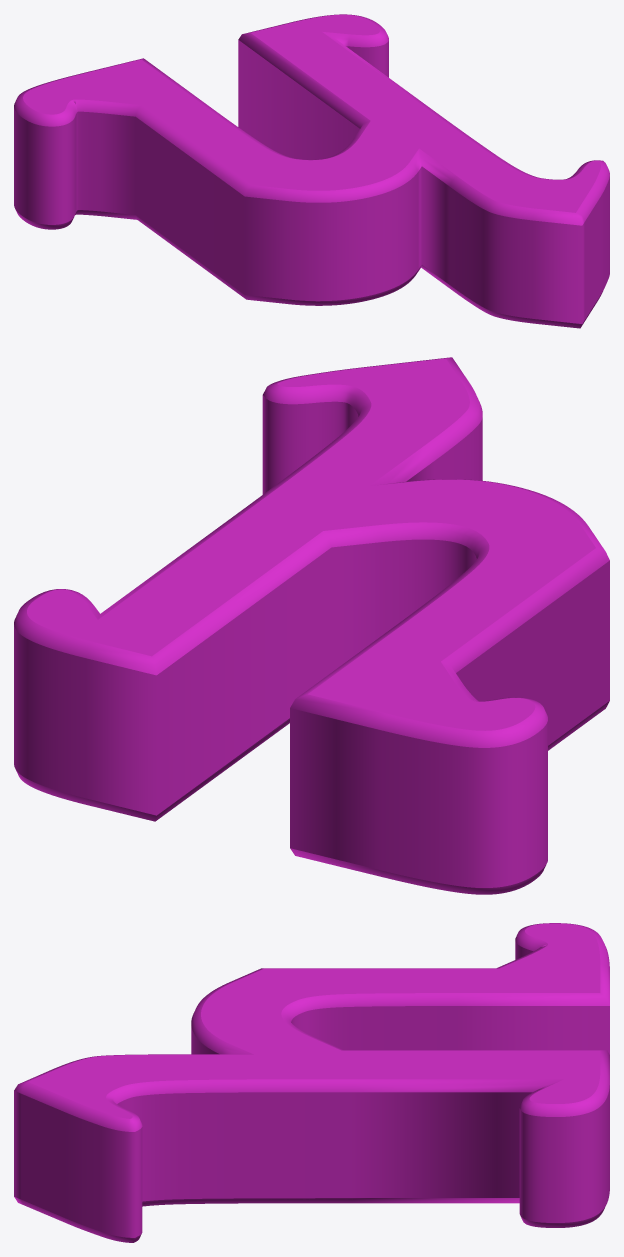
File: Letter_h_Small.fbx
3 renders of one model, top to bottom at view 1: azimuth 30°, elevation 25°; view 2: azimuth 150°, elevation 25°; view 3: azimuth 270°, elevation 25°, orthographic. The views are drawn at different scales.
Parts seen in each view (by area): view 1: Letter_h; view 2: Letter_h; view 3: Letter_h.
Part boxes in pixels (x1,y1,x2,y2): Letter_h: (14, 14, 609, 328); Letter_h: (14, 357, 609, 894); Letter_h: (14, 923, 609, 1242).
Size of the model in its own units: 0.4951 by 0.14 by 0.6117.
